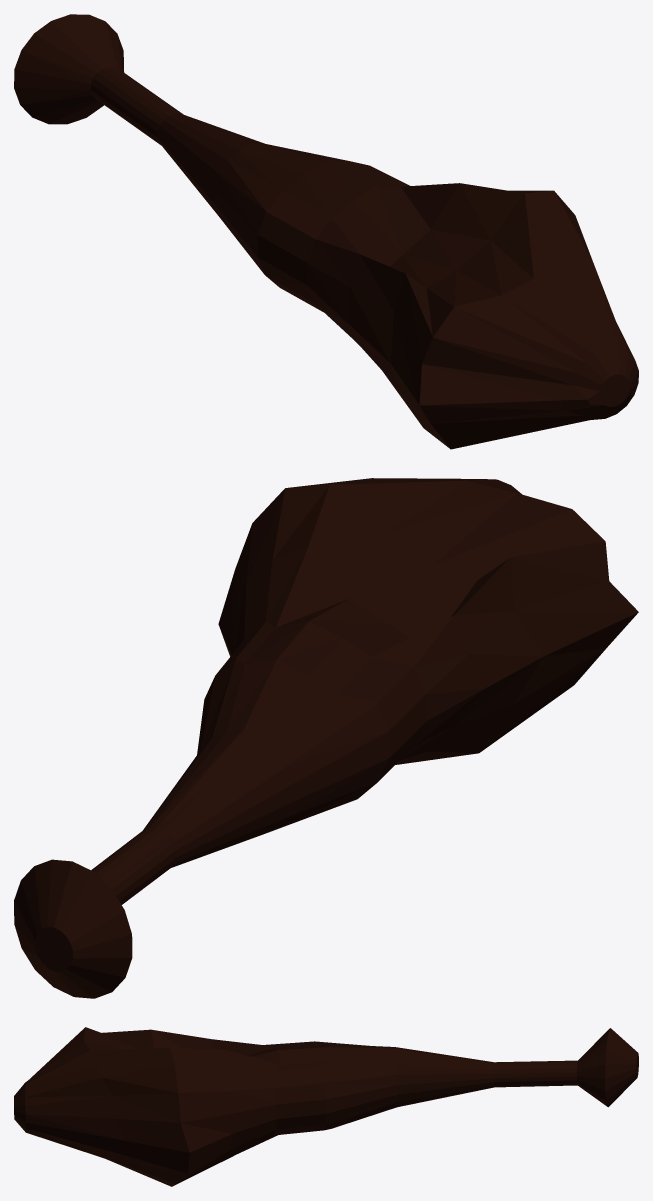
Rendered from club.FBX.
3 views of the same model, one above another, from view 1: azimuth 30°, elevation 25°; view 2: azimuth 150°, elevation 25°; view 3: azimuth 270°, elevation 25° (orthographic). The views are drawn at different scales.
Parts seen in each view (by area): view 1: club; view 2: club; view 3: club.
Boxes of the visible parts, left/top/right/bottom form: club: left=14, top=14, right=638, bottom=449; club: left=14, top=478, right=638, bottom=998; club: left=14, top=1027, right=638, bottom=1186.
Size of the model in its own units: 7.82 by 6.21 by 25.12.
